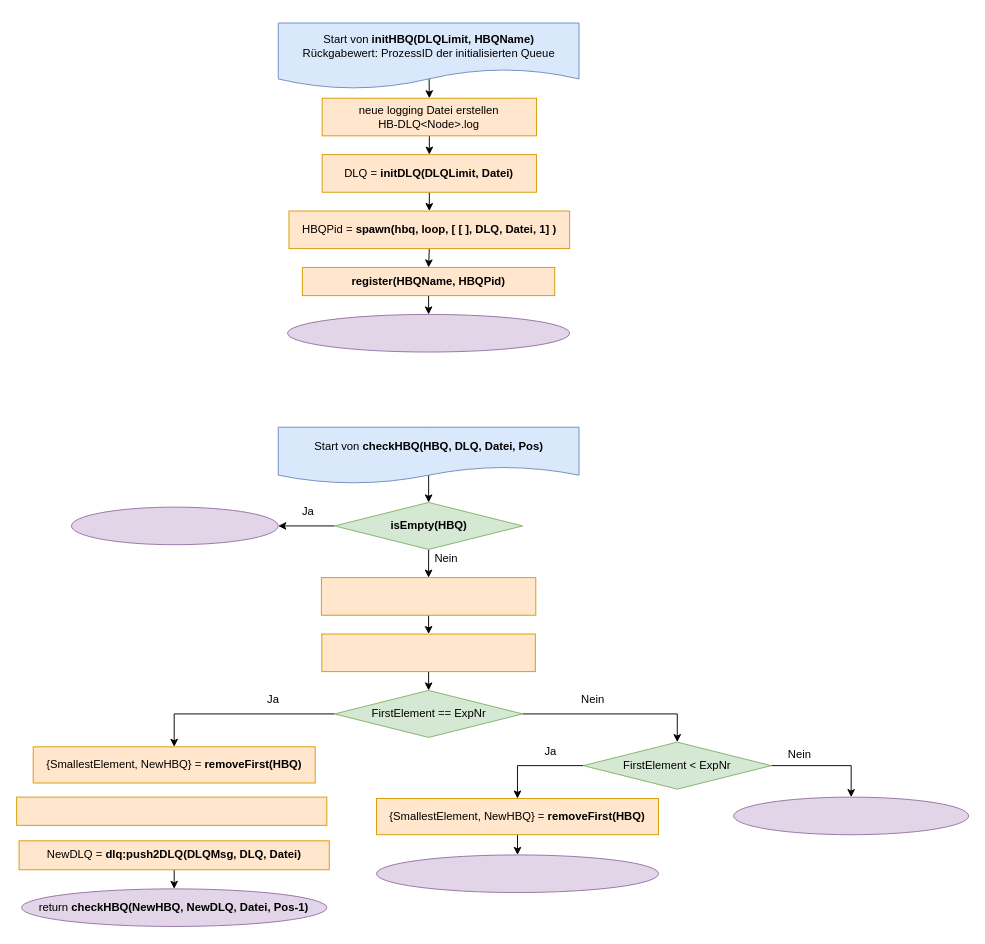
Some shapes in this 985 by 944 pixel diagram are drawn without their labels. Here are the shapes that lost their labels. From the top down, the centre of each, then its label:
At point 428,332: "return HBQPid".
At point 174,525: "loggen".
At point 428,596: "FirstElem = getFirstElemHBQ(HBQ)".
At point 428,652: "ExpNr = expectedNr(DLQ)".
At point 171,810: "DLQMsg = msgTuple2List(SmallestElement)".
At point 851,815: "return loop(HBQ, DLQ, Datei, Pos)".
At point 517,873: "return checkHBQ(NewHBQ, DLQ, Datei, Pos-1)".
